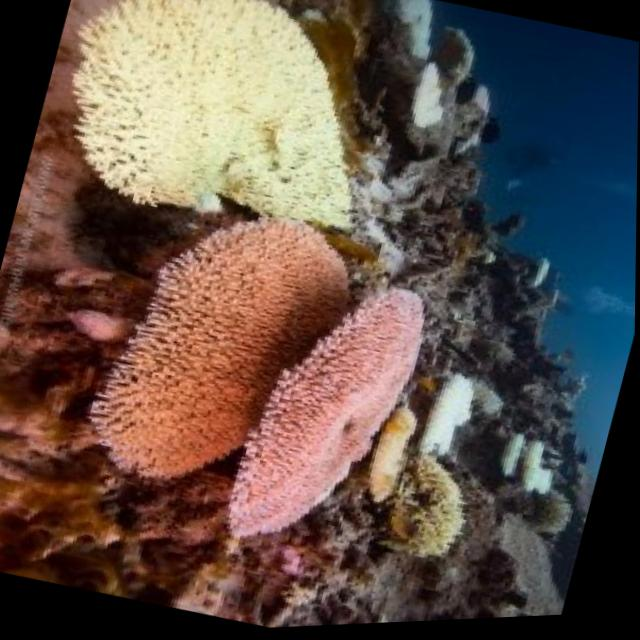Bleached Coral: (23, 0, 433, 259), (397, 0, 527, 153), (408, 362, 503, 486), (481, 433, 564, 522)
Healthy Coral: (67, 195, 440, 568)
